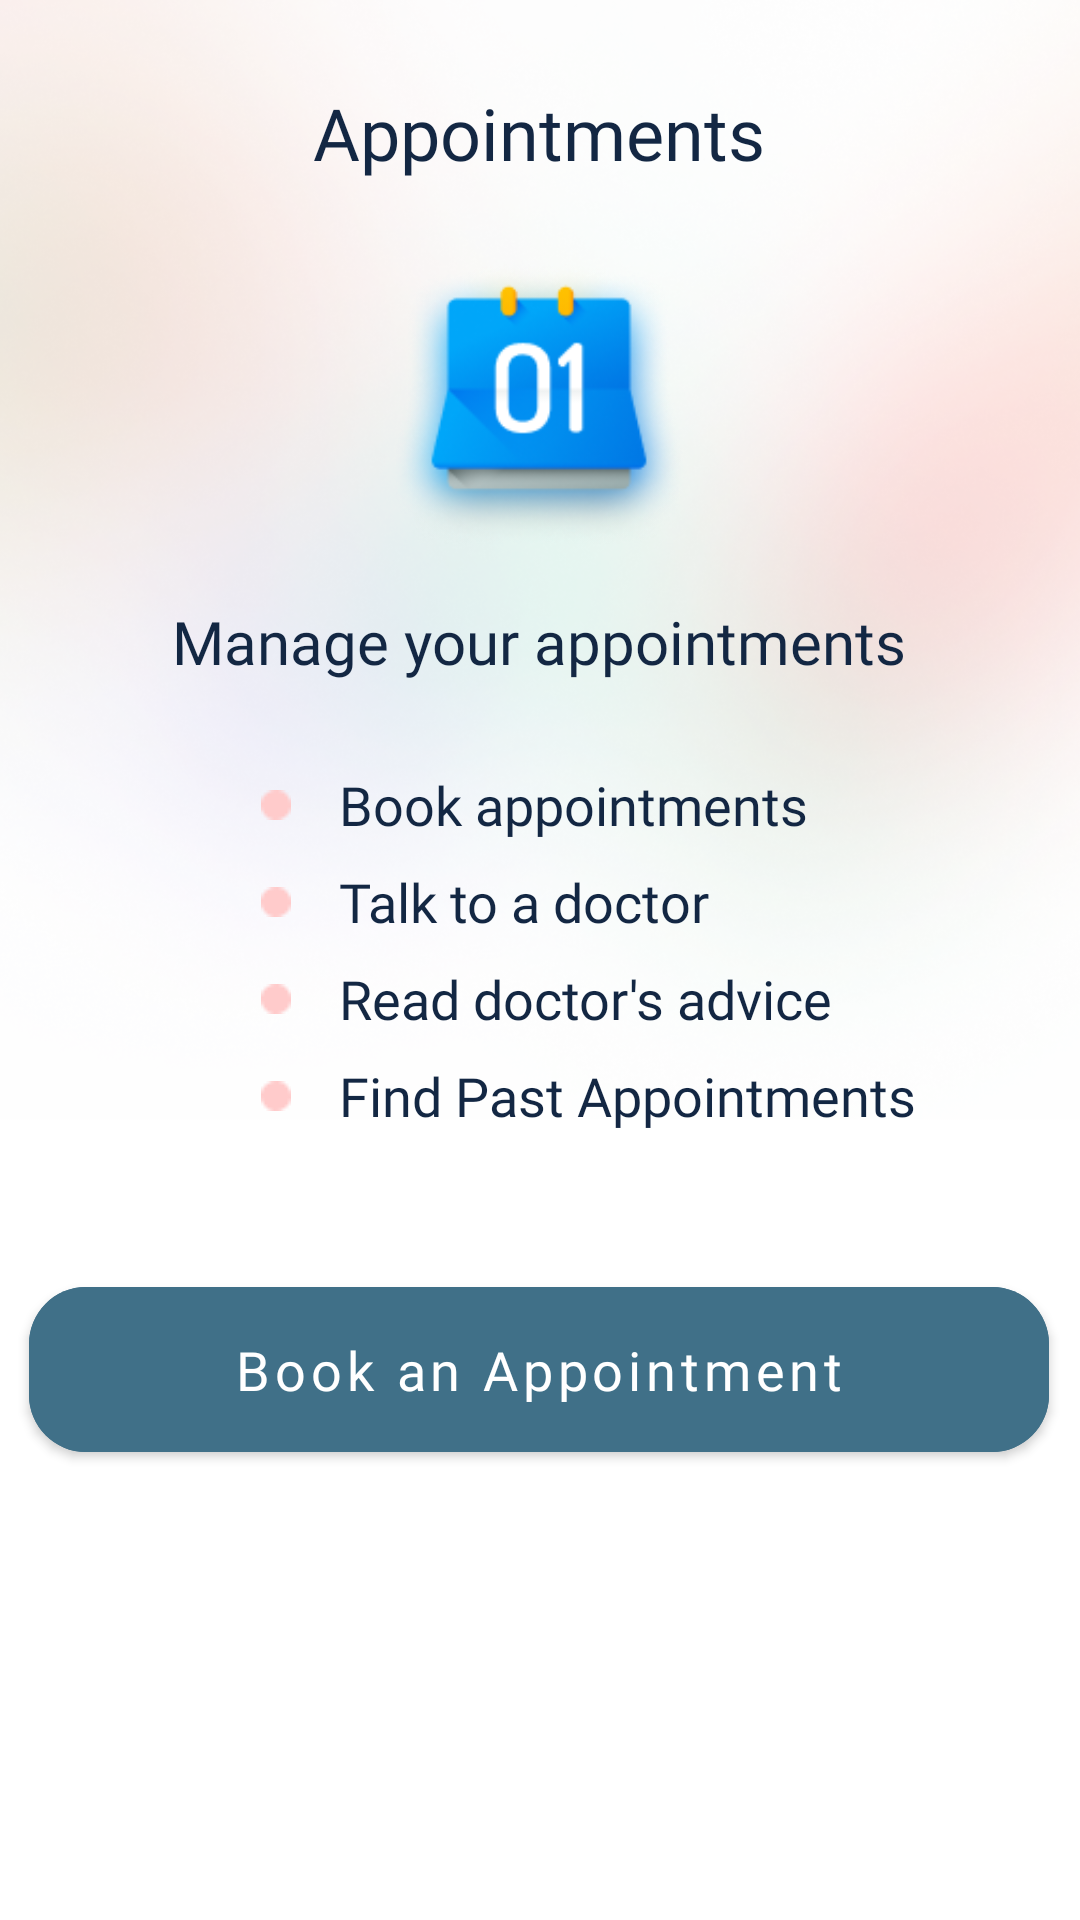

Where to tap for icons on this 1080×1920 app screen, as point (x, y):
calenderboth: point (537, 409)
